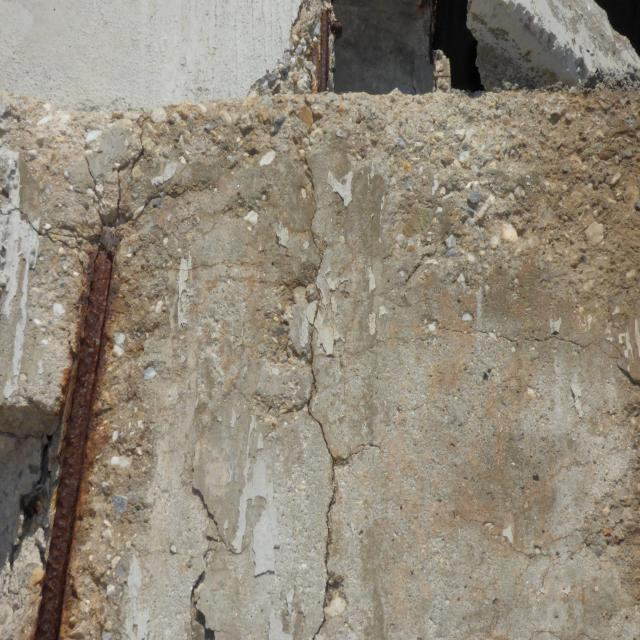corrosion: (24, 238, 144, 639), (307, 3, 343, 100)
